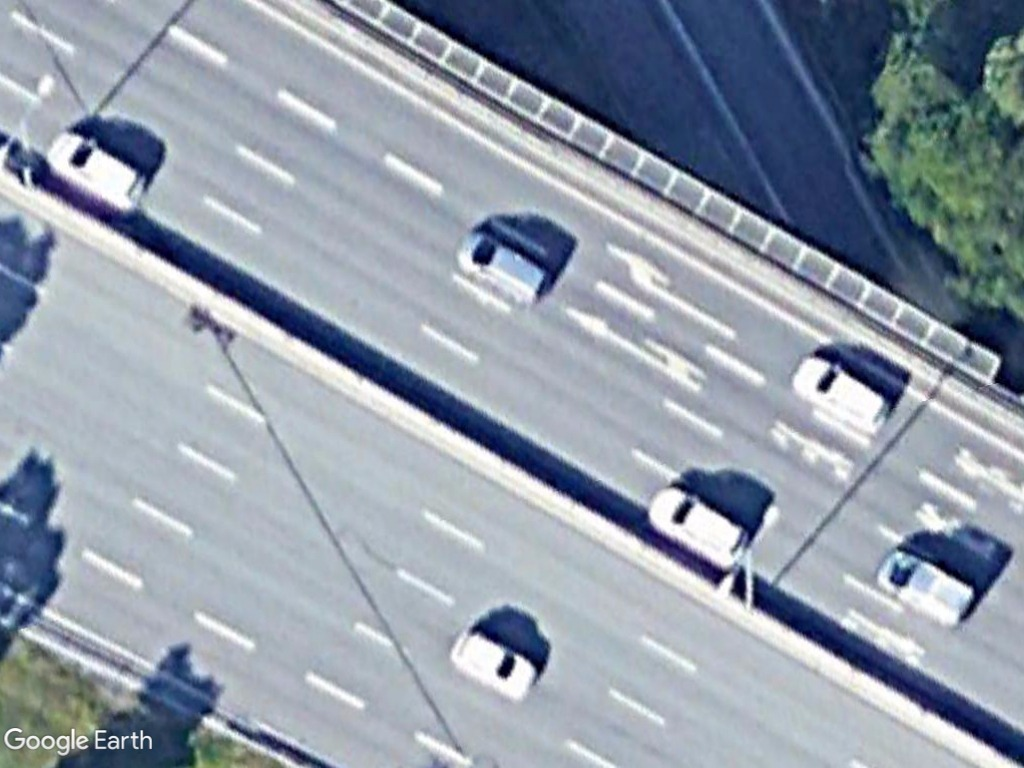car: (639, 482, 761, 571), (41, 128, 154, 214), (448, 624, 544, 706)
van: (784, 351, 897, 439), (874, 545, 982, 631), (453, 226, 555, 308)
